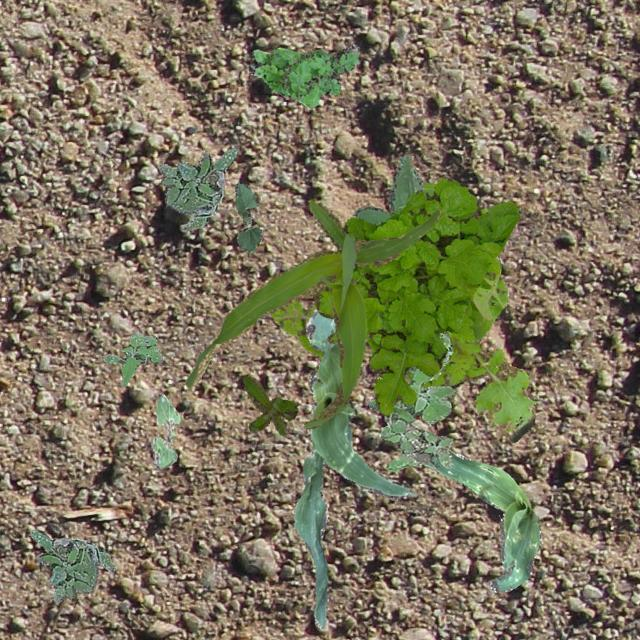crop: (184, 198, 440, 428), (292, 306, 414, 626), (422, 448, 540, 590), (150, 392, 180, 468), (233, 180, 260, 252)
weed: (270, 180, 534, 442), (312, 176, 520, 414), (367, 332, 455, 471), (246, 42, 358, 106), (156, 147, 236, 230), (28, 528, 114, 604), (352, 154, 422, 224), (242, 374, 296, 434), (102, 332, 162, 386)
